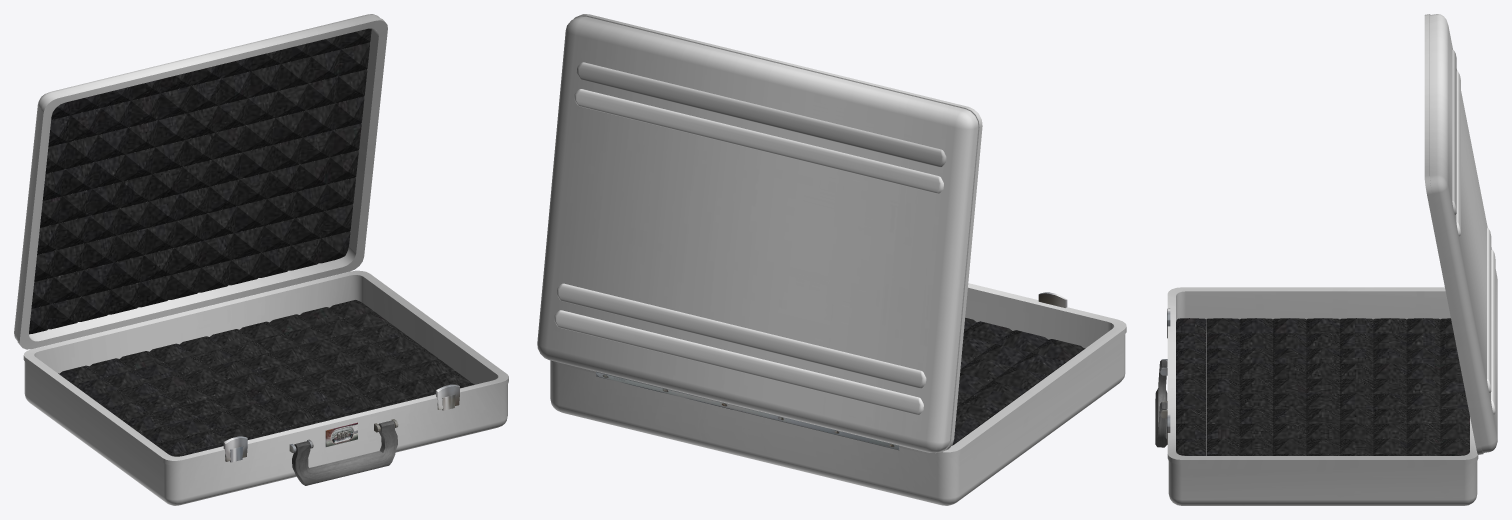
The model's file is briefcase_empty.glb.
3 renders of one model, left to right at view 1: azimuth 30°, elevation 25°; view 2: azimuth 150°, elevation 25°; view 3: azimuth 270°, elevation 25°, orthographic. The views are drawn at different scales.
Visible parts, largest first — view 1: Top_Foam, Bottom_Foam; view 2: Top_Foam, Bottom_Foam; view 3: Bottom_Foam, Top_Foam.
Boxes of the visible parts, x1,y1,x2,y2 form: Top_Foam: [14, 14, 387, 349]; Bottom_Foam: [23, 270, 508, 505]; Top_Foam: [537, 14, 982, 453]; Bottom_Foam: [550, 283, 1126, 505]; Bottom_Foam: [1155, 287, 1478, 505]; Top_Foam: [1424, 14, 1497, 454].
Size of the model in its own units: 0.6347 by 0.5689 by 0.5318.
Materials: 1 (1 with a texture image).
